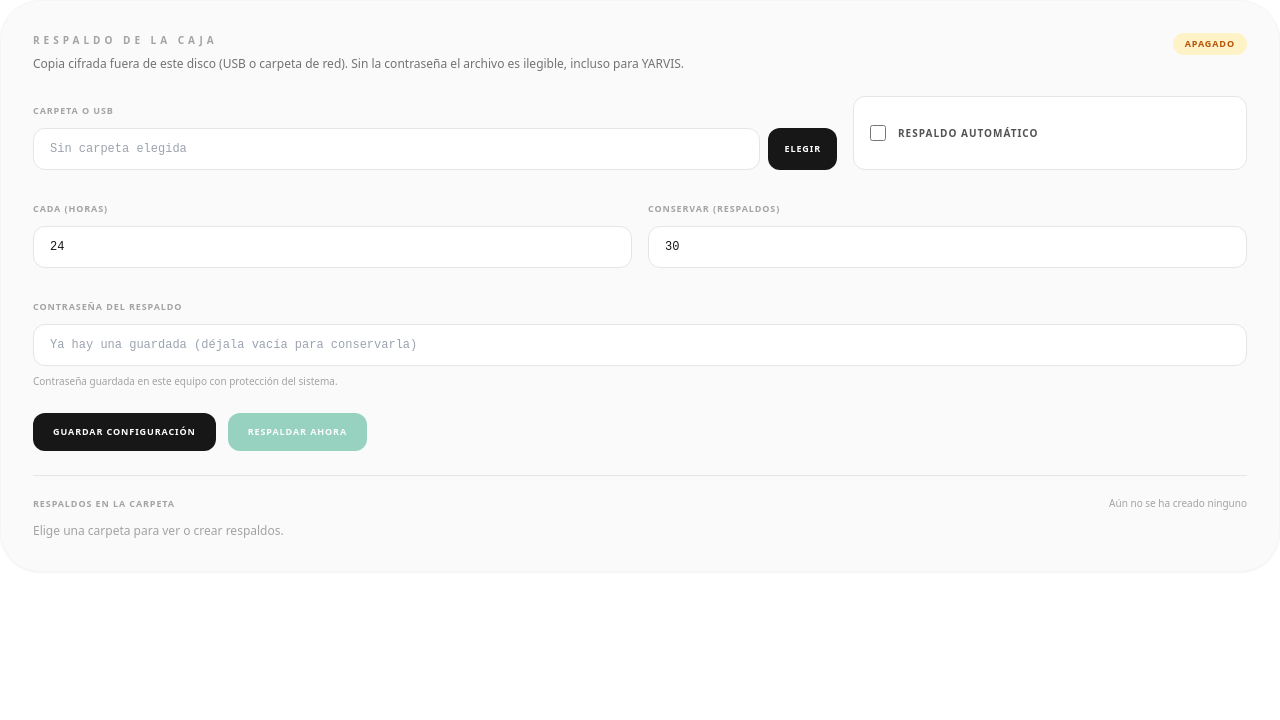
Test: respaldos · UI › no deja activar sin carpeta
Expected: the text "APAGADO" is shown, x1=1173 y1=33 x2=1247 y2=54
Step 1. Click the checkbox → (878, 133), box x1=870 y1=125 x2=886 y2=141
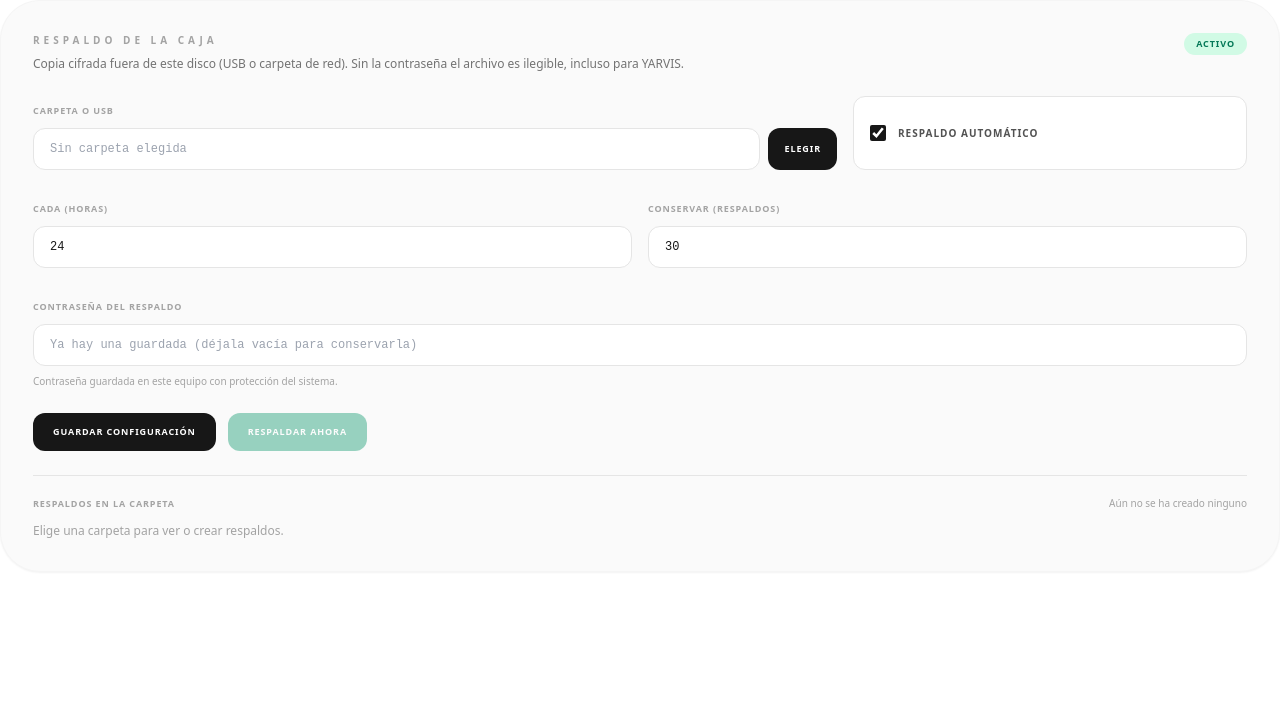
Step 2. Click the button "Guardar configuración" → (124, 432), box x1=33 y1=413 x2=216 y2=450
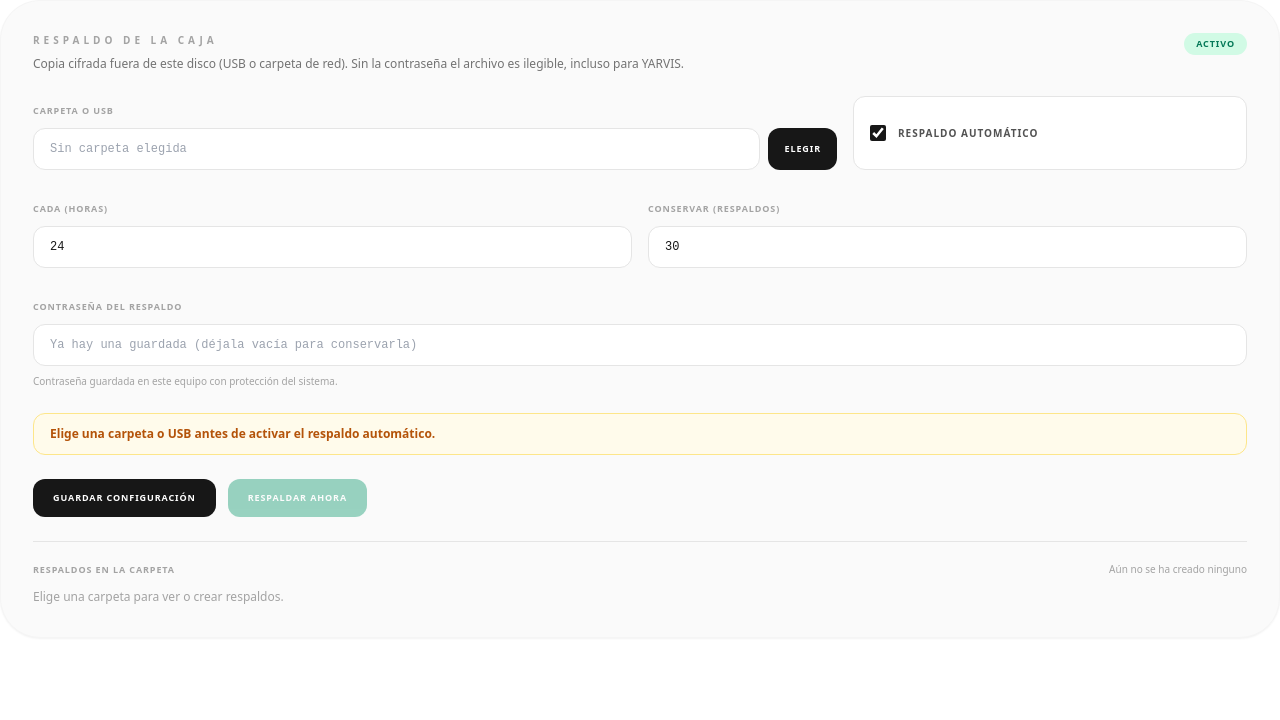
Expected: the message shows "Elige una carpeta o USB", x1=50 y1=425 x2=435 y2=442
